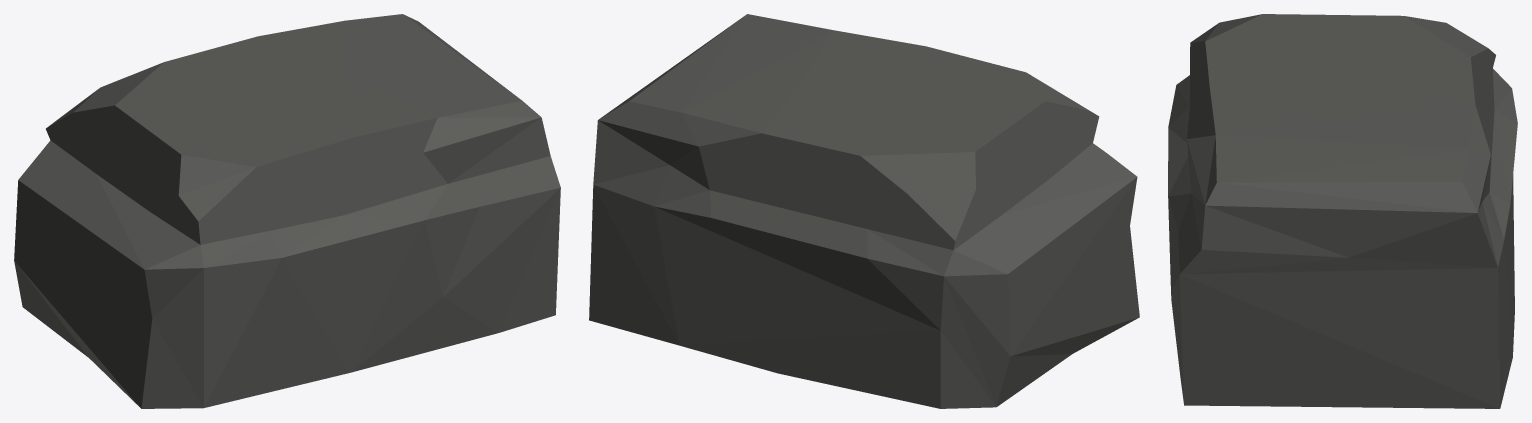
Rendered from SM_Envr_Nature_Rock_12.fbx.
3 renders of one model, left to right at view 1: azimuth 30°, elevation 25°; view 2: azimuth 150°, elevation 25°; view 3: azimuth 270°, elevation 25°, orthographic. The views are drawn at different scales.
Visible parts, largest first — view 1: SM_Envr_Nature_Rock_12; view 2: SM_Envr_Nature_Rock_12; view 3: SM_Envr_Nature_Rock_12.
Part boxes in pixels (x1,y1,x2,y2): SM_Envr_Nature_Rock_12: (14, 14, 560, 408); SM_Envr_Nature_Rock_12: (589, 14, 1139, 408); SM_Envr_Nature_Rock_12: (1168, 14, 1517, 408).
Bounding box in the file's own units: 284 × 146 × 204.
